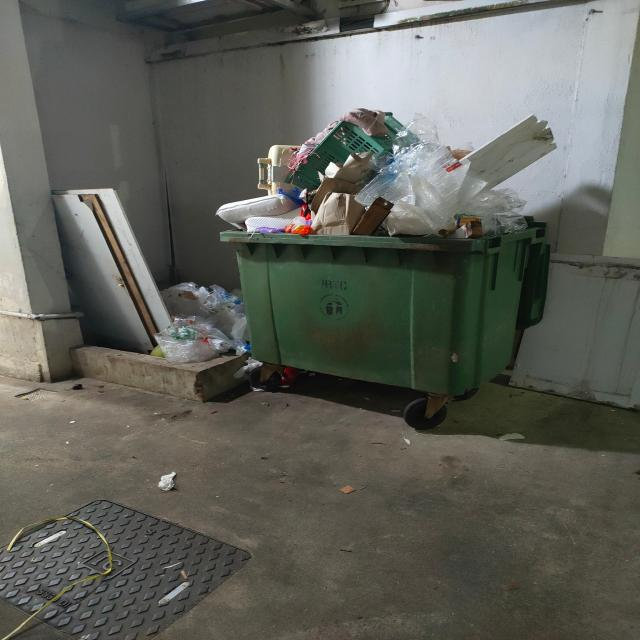bin_full: (232, 117, 557, 396)
bulk_waste: (52, 188, 171, 353)
normal_waste: (227, 145, 512, 239), (160, 282, 246, 346), (466, 188, 526, 232), (309, 176, 366, 212), (398, 112, 446, 152), (382, 200, 434, 234), (229, 315, 248, 347), (276, 186, 305, 206), (208, 284, 232, 300), (290, 215, 312, 230), (227, 302, 246, 314), (228, 288, 242, 304)
